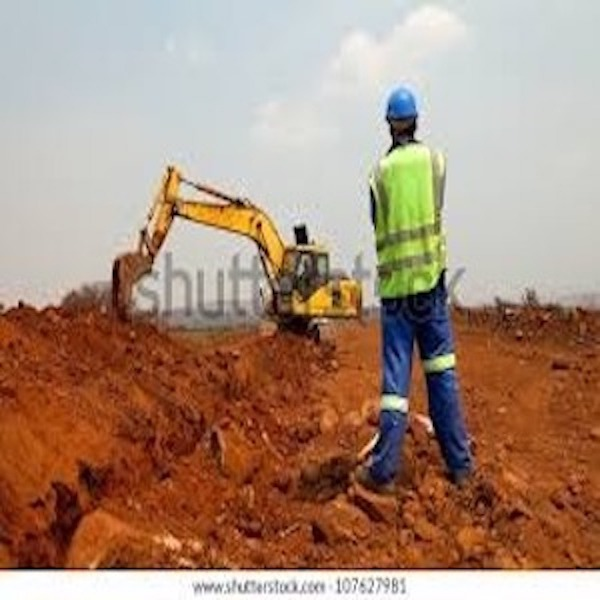helmet: (386, 85, 421, 121)
vest: (370, 145, 452, 293)
